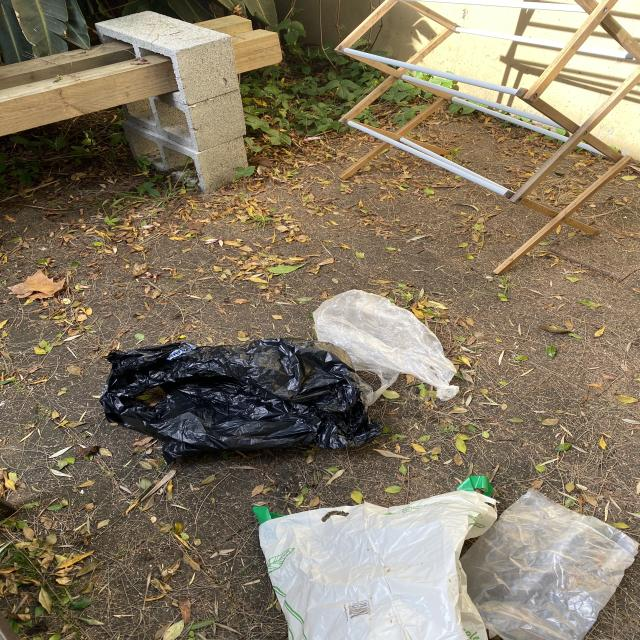bag: (251, 475, 496, 640), (101, 338, 382, 462), (458, 488, 639, 640), (312, 289, 459, 401)
